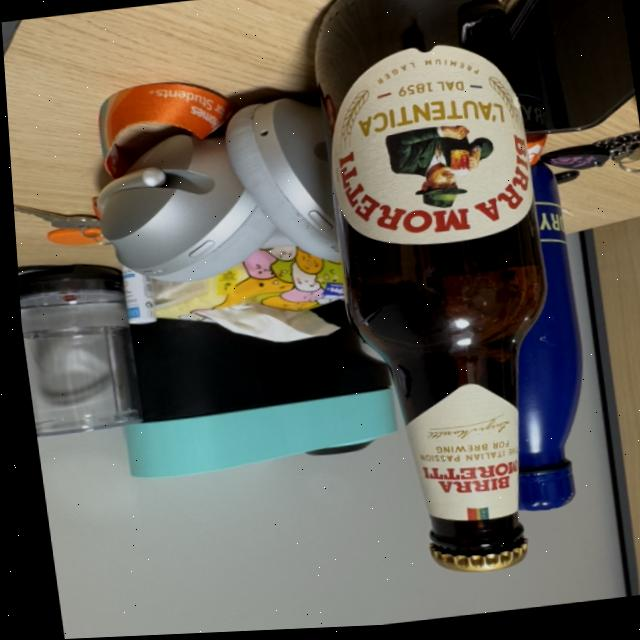beer: (299, 0, 581, 600)
